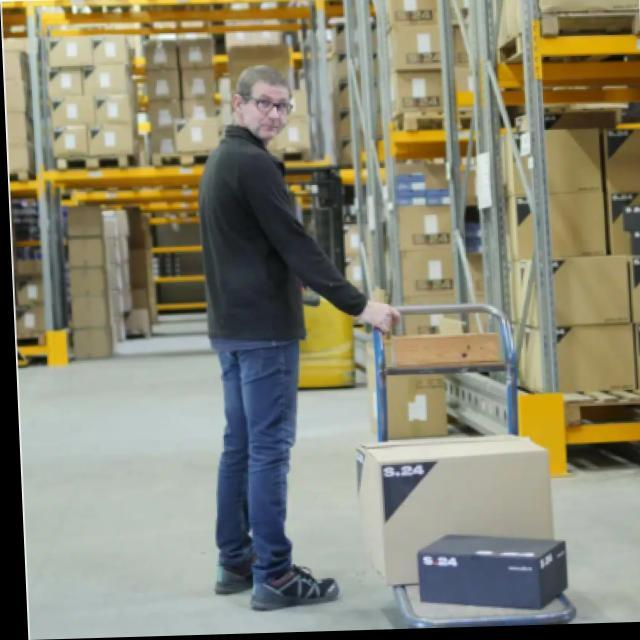boots: (204, 541, 345, 618)
